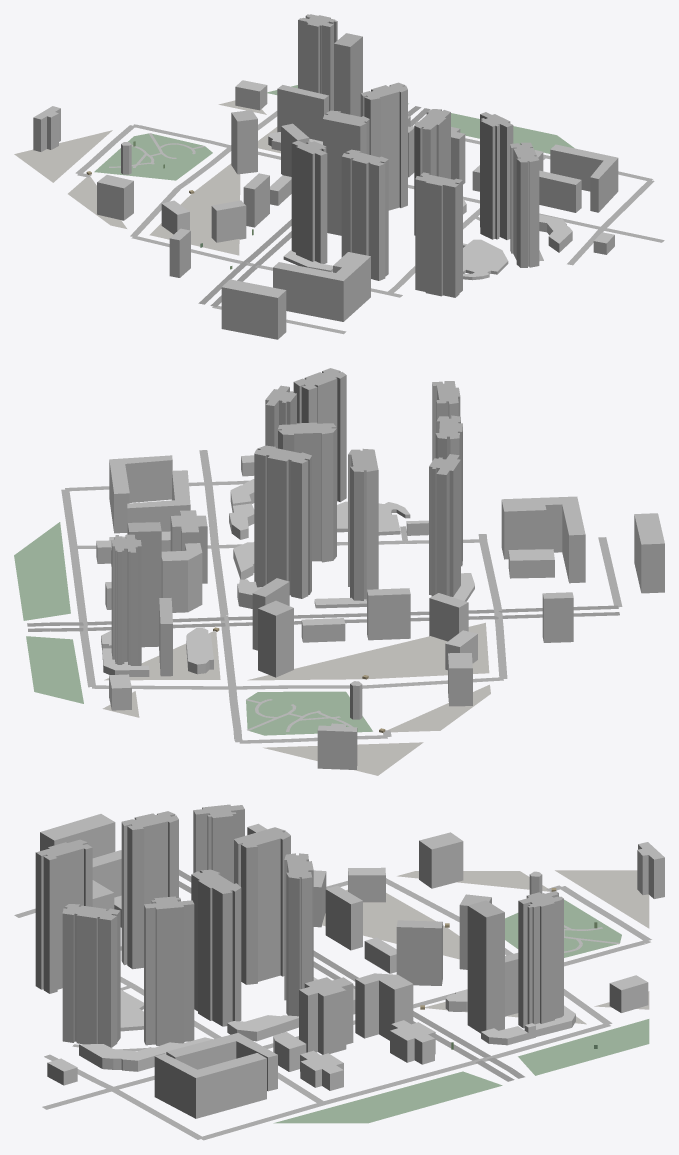
3 views of the same model, one above another, from view 1: azimuth 30°, elevation 25°; view 2: azimuth 150°, elevation 25°; view 3: azimuth 270°, elevation 25° (orthographic). The views are drawn at different scales.
Size of the model in its own units: 555 by 132 by 545.
